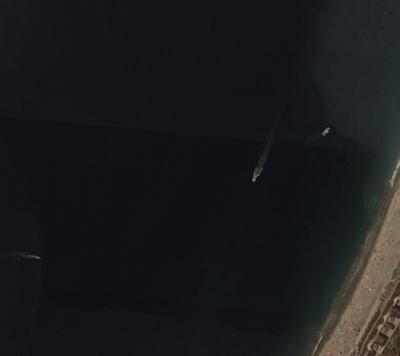Ships: (227, 158, 275, 187), (314, 115, 337, 147)
